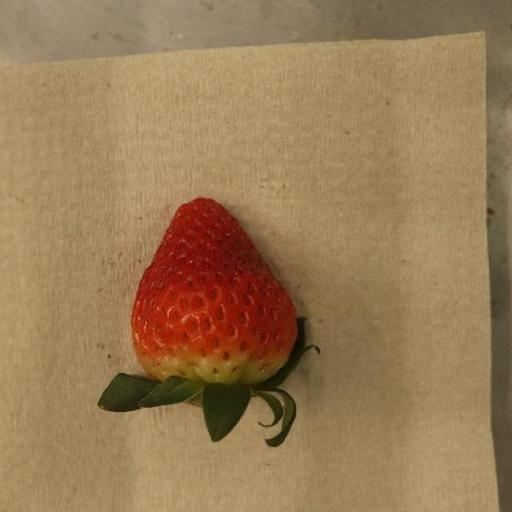Strawberry: (98, 198, 307, 449)
